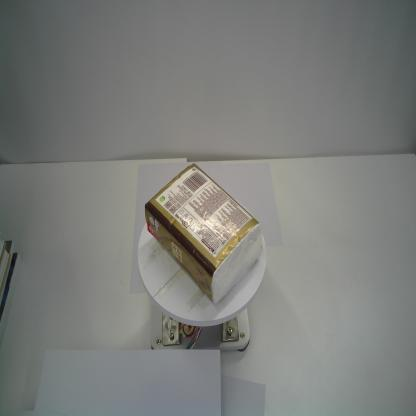Tissue: (144, 162, 262, 304)
